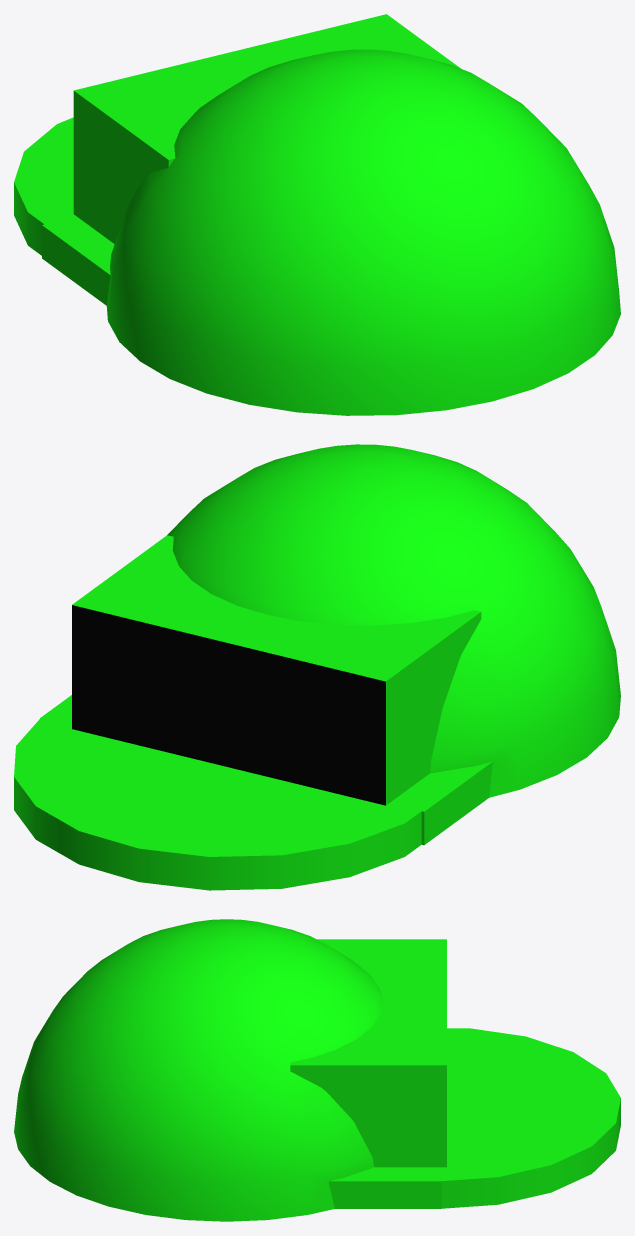
File: Hat Model.FBX
The picture shows the model from 3 angles, top to bottom: view 1: azimuth 30°, elevation 25°; view 2: azimuth 150°, elevation 25°; view 3: azimuth 270°, elevation 25°; orthographic projection. The views are drawn at different scales.
Parts seen in each view (by area): view 1: Cylinder001; view 2: Cylinder001; view 3: Cylinder001.
Boxes of the visible parts, x1,y1,x2,y2 form: Cylinder001: [14, 14, 620, 415]; Cylinder001: [14, 444, 620, 890]; Cylinder001: [14, 919, 620, 1221].
Size of the model in its own units: 10.2 by 5.1 by 14.54.
